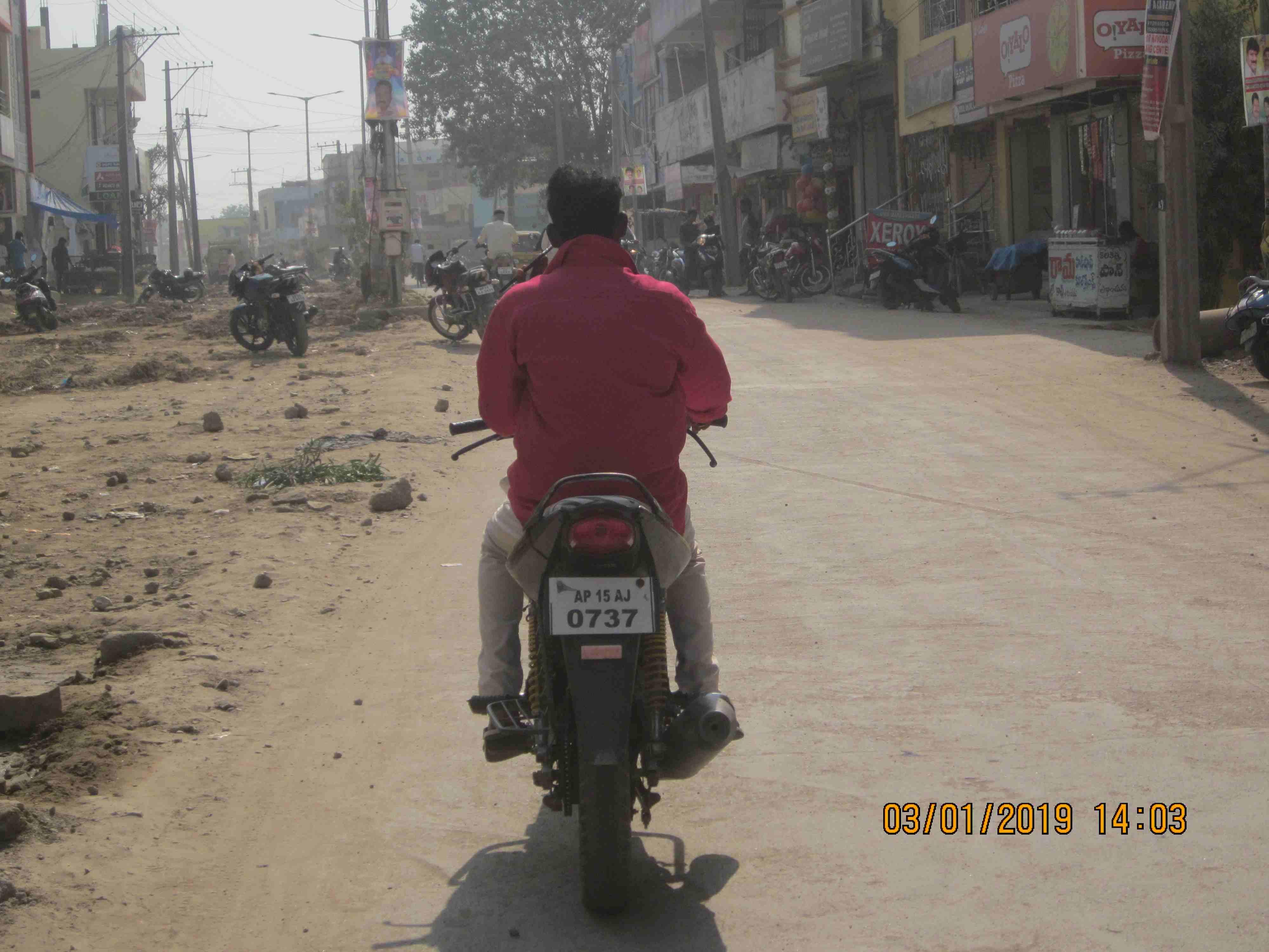plate: (549, 567, 660, 648)
